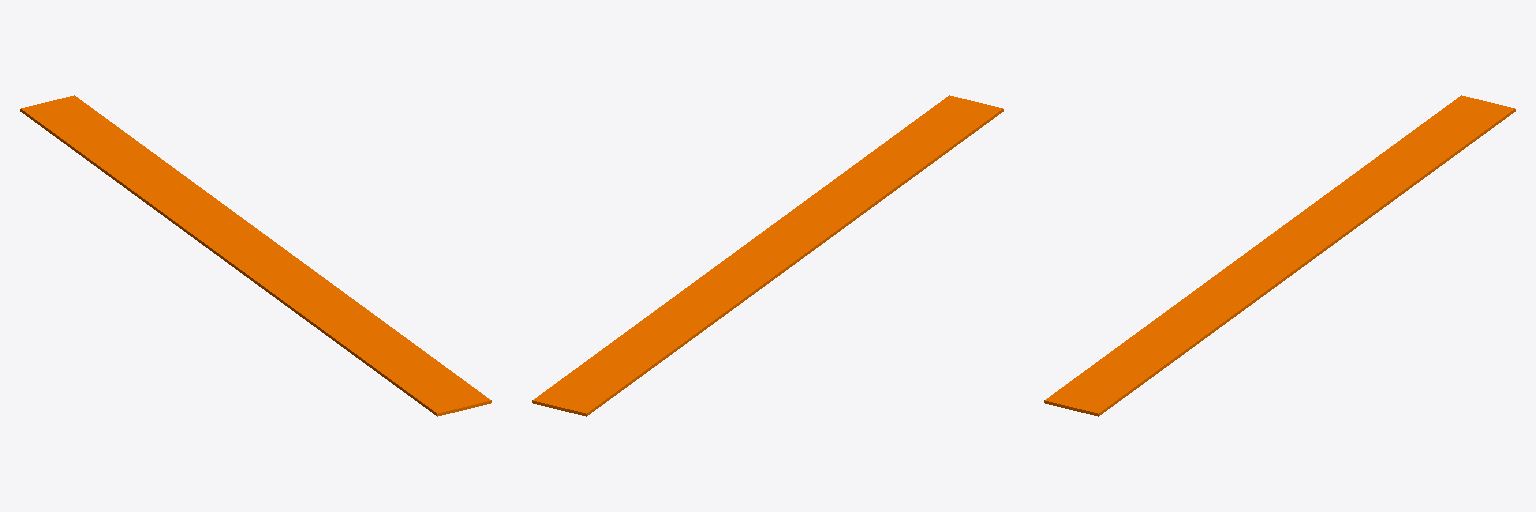
robot.urdf — ypaddle2D:
<robot name="ypaddle2D">
    
  <link name="base_link">
    <inertial>
      <origin rpy="0 0 0" xyz="0 0 0"/>
       <mass value="0"/>
       <inertia ixx="0" ixy="0" ixz="0" iyy="0" iyz="0" izz="0"/>
    </inertial>
  </link>

  <link name="x_link">
    <inertial>
      <origin rpy="0 0 0" xyz="0 0 0"/>
       <mass value="0.0001"/>
       <inertia ixx="0.0001" ixy="0" ixz="0" iyy="0.0001" iyz="0" izz="0.0001"/>
    </inertial>
  </link>


  <link name="y_link">
    <inertial>
      <origin rpy="0 0 0" xyz="0 0 0"/>
       <mass value="0.0001"/>
       <inertia ixx="0.0001" ixy="0" ixz="0" iyy="0.0001" iyz="0" izz="0.0001"/>
    </inertial>
  </link>


  <link name="theta_link">
    <inertial>
      <origin rpy="0 0 0" xyz="0 0 0"/>
       <mass value="1.0"/>
       <inertia ixx="0.0001" ixy="0" ixz="0" iyy="0.0001" iyz="0" izz="0.0001"/>
    </inertial>

    <visual>
      <origin rpy="0 0 0" xyz="0 0 0"/>
      <geometry>
        <box size="3.75 50 0.2" />      
      </geometry>
      <material name="white">
        <color rgba="1 0.5 0 1"/>
      </material>
    </visual>
    
    <collision>
      <origin rpy="0 0 0" xyz="0 0 0"/>
      <geometry>
        <box size="3.75 50 0.2" />
      </geometry>
    </collision>
  </link>

  <joint name = "x_prismatic" type = "prismatic">
    <origin xyz = "0.0 0.0 0.0" rpy = "0 0 0"/> 
    <parent link = "base_link"/>
    <child link= "x_link"/>
    <axis xyz = "1 0 0"/>
    <limit effort="1.0" lower="-10000" upper="10000" velocity="10000" />
    <dynamics damping = "0.0" friction="0.0" />
  </joint>

  <joint name = "y_prismatic" type = "prismatic">
    <origin xyz = "0.0 0.0 0.0" rpy = "0 0 0"/> 
    <parent link = "x_link" />
    <child link= "y_link"/>
    <axis xyz = "0 1 0" />
    <limit effort="1.0" lower="-10000" upper="10000" velocity="10000" />
    <dynamics damping = "0.0" friction="0.0" />
  </joint>

   <joint name = "theta_revolute" type = "revolute">
    <origin xyz = "0.0 0.0 0.0" rpy = "0 0 0"/> 
    <parent link = "y_link" />
    <child link= "theta_link"/>
    <axis xyz = "0 0 1" />
    <limit effort="1.0" lower="-10000" upper="10000" velocity="10000" />
    <dynamics damping = "0.0" friction="0.0" />
  </joint>

    
</robot>

--- Facts derived from the render (not from the file) ---
Views: 3 orthographic renders of the robot side by side, from view 1: azimuth 30°, elevation 25°; view 2: azimuth 150°, elevation 25°; view 3: azimuth 330°, elevation 25°.
Robot: ypaddle2D — 4 links, 3 joints (1 revolute, 2 prismatic); root link base_link; default pose: all joints at 0.
Links seen in each view (by area): view 1: theta_link; view 2: theta_link; view 3: theta_link.
Boxes of the visible links, x1,y1,x2,y2 form: theta_link: (20, 95, 491, 416); theta_link: (532, 95, 1003, 416); theta_link: (1044, 95, 1515, 416).
Bounding box of the posed robot: 3.75 × 50 × 0.2 m (x, y, z).
Geometry: primitives only (box / cylinder / sphere), no mesh files.